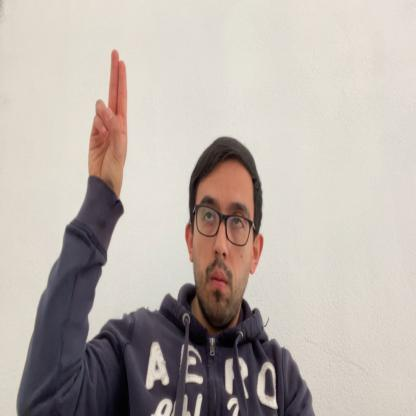U: (88, 48, 128, 188)
